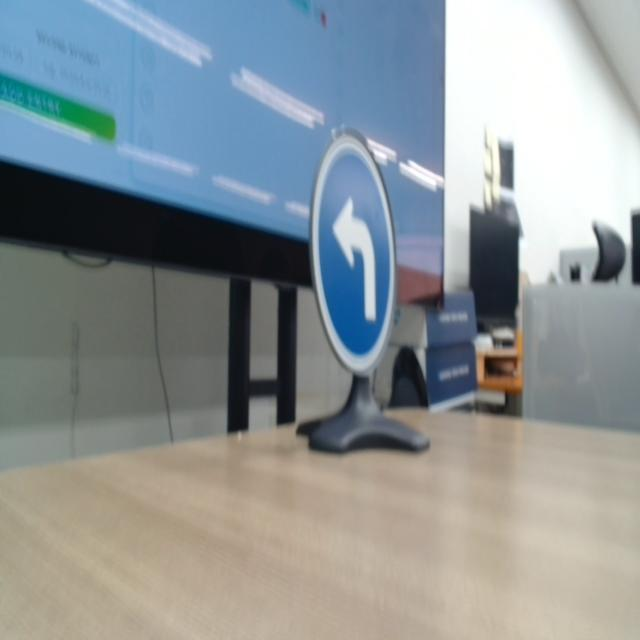left_direction: (306, 110, 402, 384)
